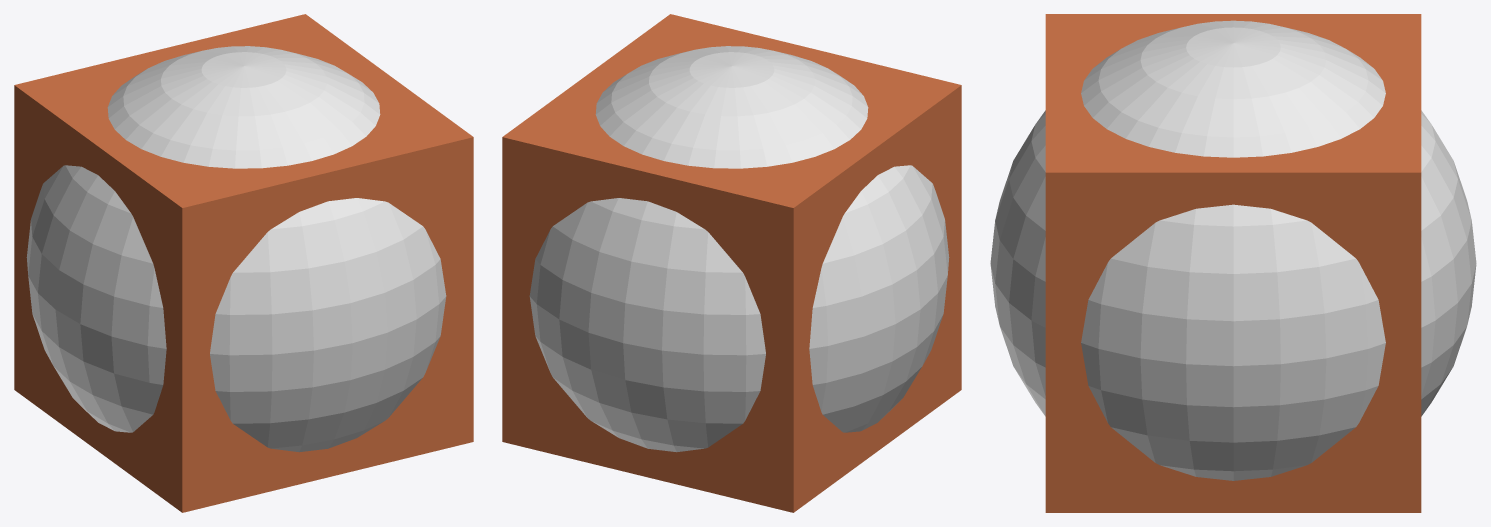
Rendered from laserhub.fbx.
The picture shows the model from 3 angles, left to right: view 1: azimuth 30°, elevation 25°; view 2: azimuth 150°, elevation 25°; view 3: azimuth 270°, elevation 25°; orthographic projection. The views are drawn at different scales.
Parts seen in each view (by area): view 1: Cube; view 2: Cube; view 3: Cube.
Part boxes in pixels (x1,y1,x2,y2): Cube: [14, 14, 473, 512]; Cube: [502, 14, 961, 512]; Cube: [990, 14, 1476, 512].
Bounding box in the file's own units: 2.59 × 2.59 × 2.59.
